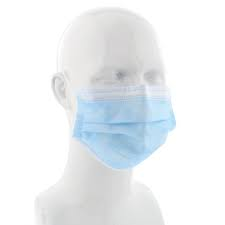mask: (73, 88, 173, 163)
